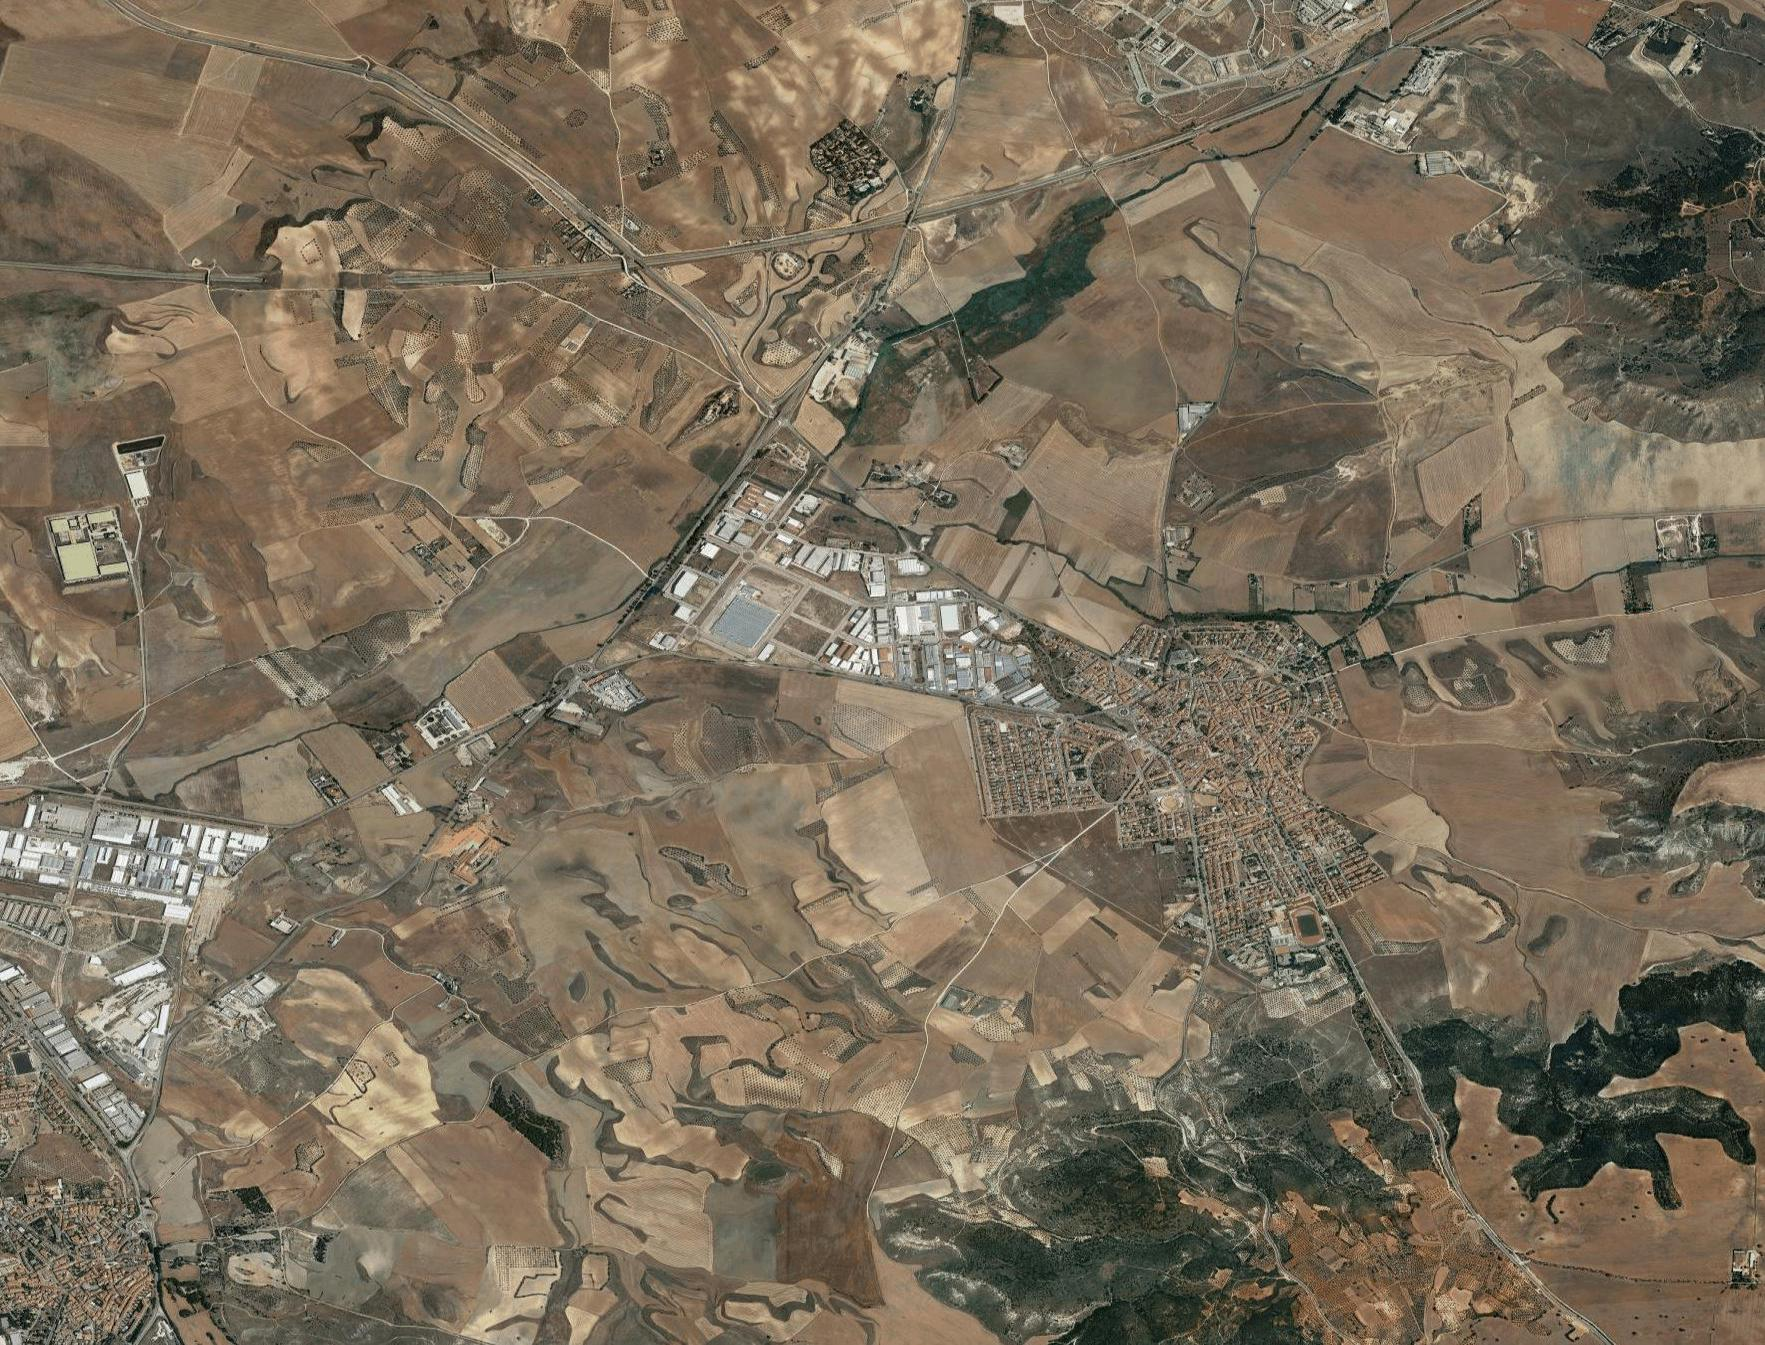industrial: (667, 492, 1033, 699), (1, 786, 268, 916)
motorway: (363, 54, 560, 189), (90, 1, 362, 85), (907, 146, 1108, 240), (1109, 83, 1304, 167), (680, 196, 903, 263), (551, 186, 678, 300), (1, 253, 268, 302), (352, 244, 553, 302)
